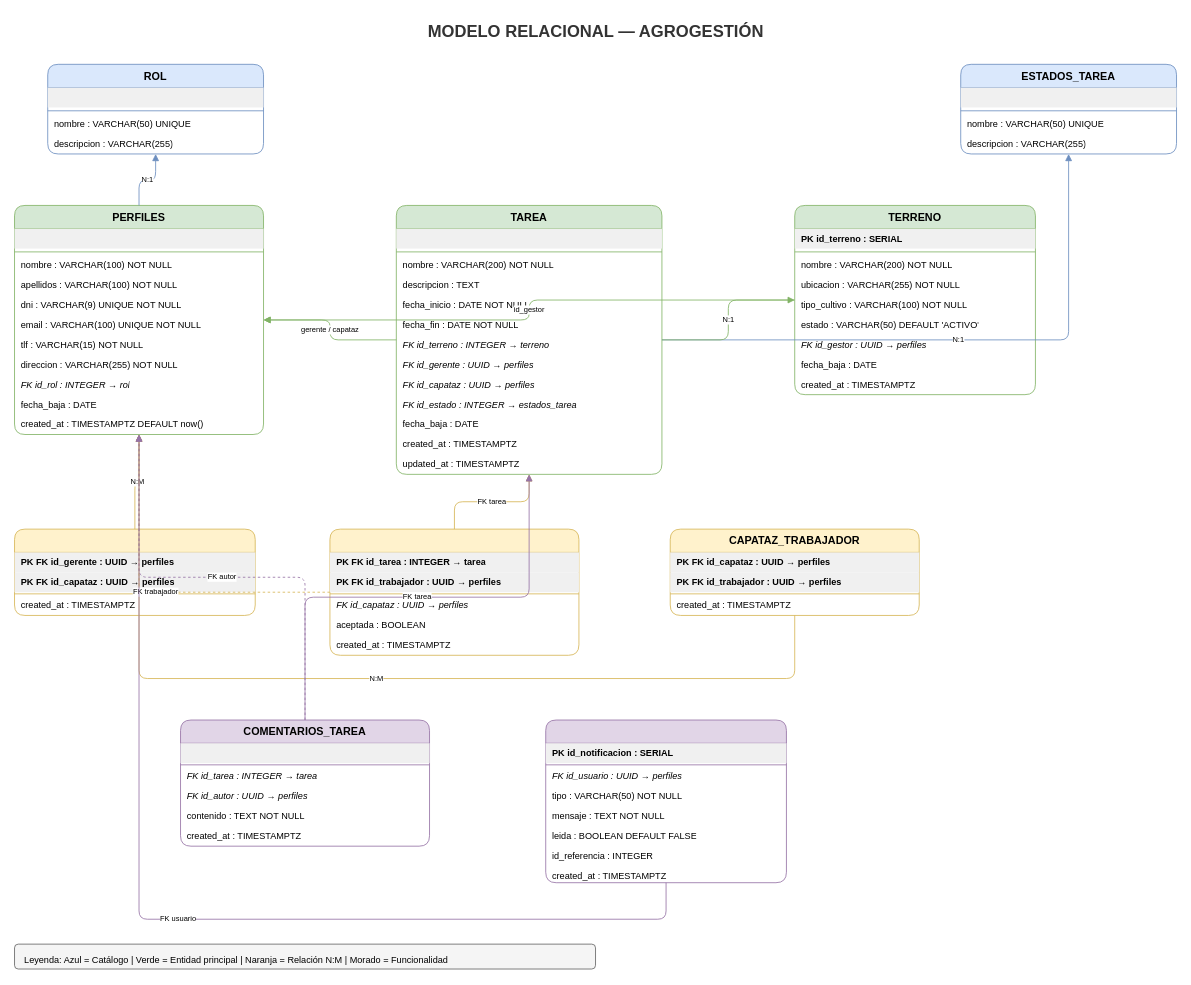
Image size: 1191x985. Some labels were removed from this diagram. Here are the shapes that lost their labels. From the top down, the box of each, then its label:
(47, 87, 263, 107): PK id_rol : INTEGER
(960, 87, 1176, 107): PK id_estado : SERIAL
(14, 228, 263, 248): PK id : UUID (FK → auth.users)
(396, 228, 662, 248): PK id_tarea : SERIAL
(14, 528, 255, 615): GERENTE_CAPATAZ
(329, 528, 579, 655): TAREA_TRABAJADOR
(180, 743, 429, 763): PK id_comentario : SERIAL
(545, 719, 786, 883): NOTIFICACIONES
